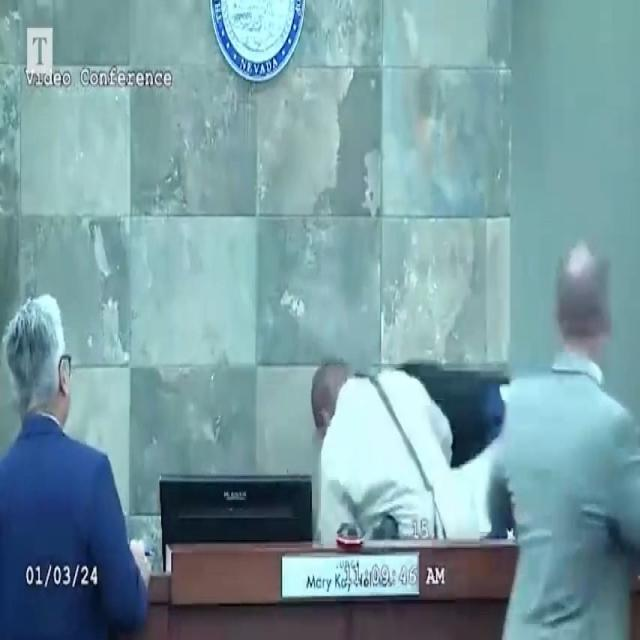fight: (311, 348, 511, 556)
non-fight: (490, 236, 640, 640), (0, 293, 154, 639)
